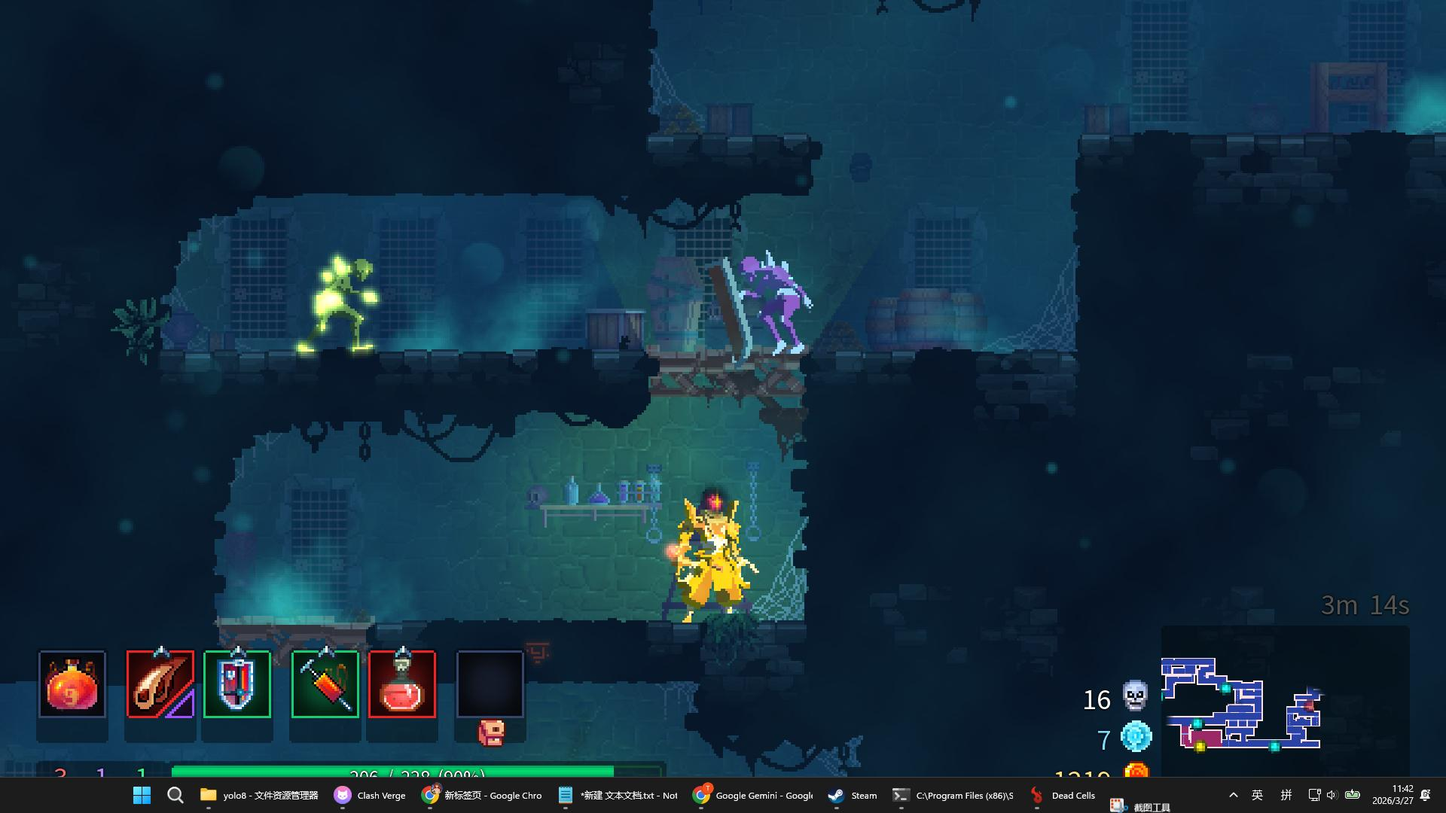gamer: (662, 487, 762, 624)
green1: (300, 259, 377, 356)
p1: (706, 253, 820, 357)
